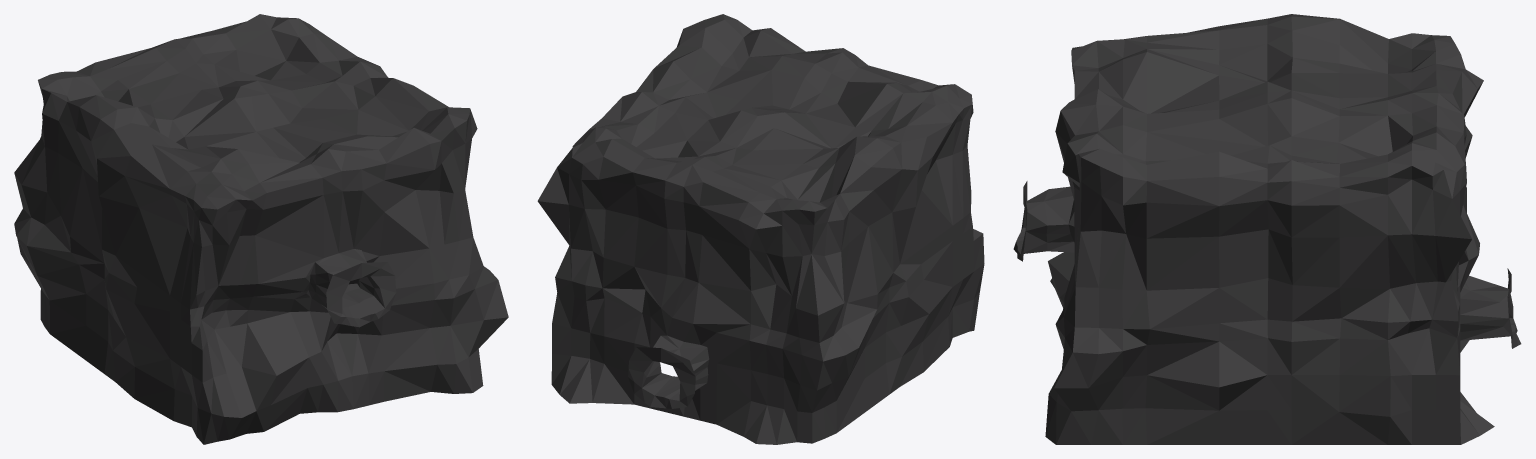
File: Cave_11A_LOD_1.fbx
3 renders of one model, left to right at view 1: azimuth 30°, elevation 25°; view 2: azimuth 150°, elevation 25°; view 3: azimuth 270°, elevation 25°, orthographic. The views are drawn at different scales.
Parts seen in each view (by area): view 1: polySurface605; view 2: polySurface605; view 3: polySurface605.
Boxes of the visible parts, left/top/right/bottom form: polySurface605: left=14, top=14, right=508, bottom=444; polySurface605: left=537, top=14, right=984, bottom=444; polySurface605: left=1013, top=14, right=1521, bottom=444.
Bounding box in the file's own units: 42.5 × 33.56 × 52.73.
